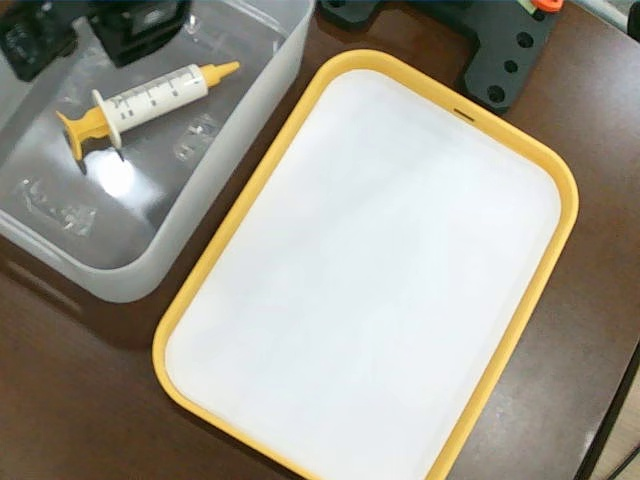syringe: (50, 58, 251, 164)
